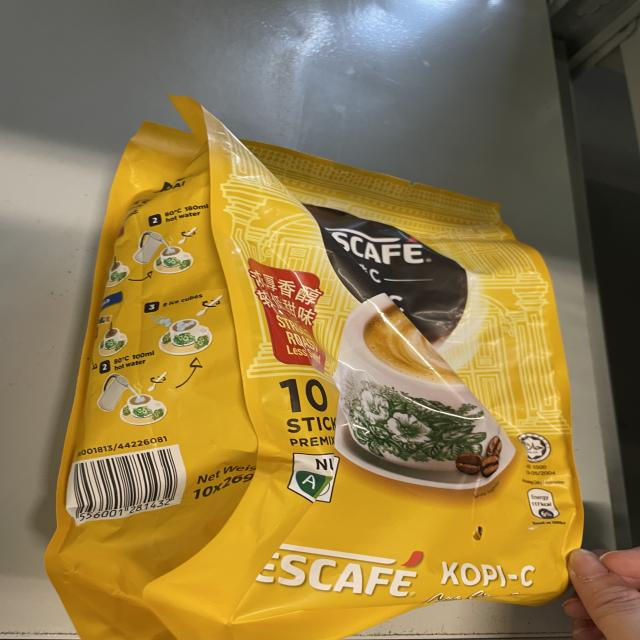object_name: (99, 118, 572, 636)
